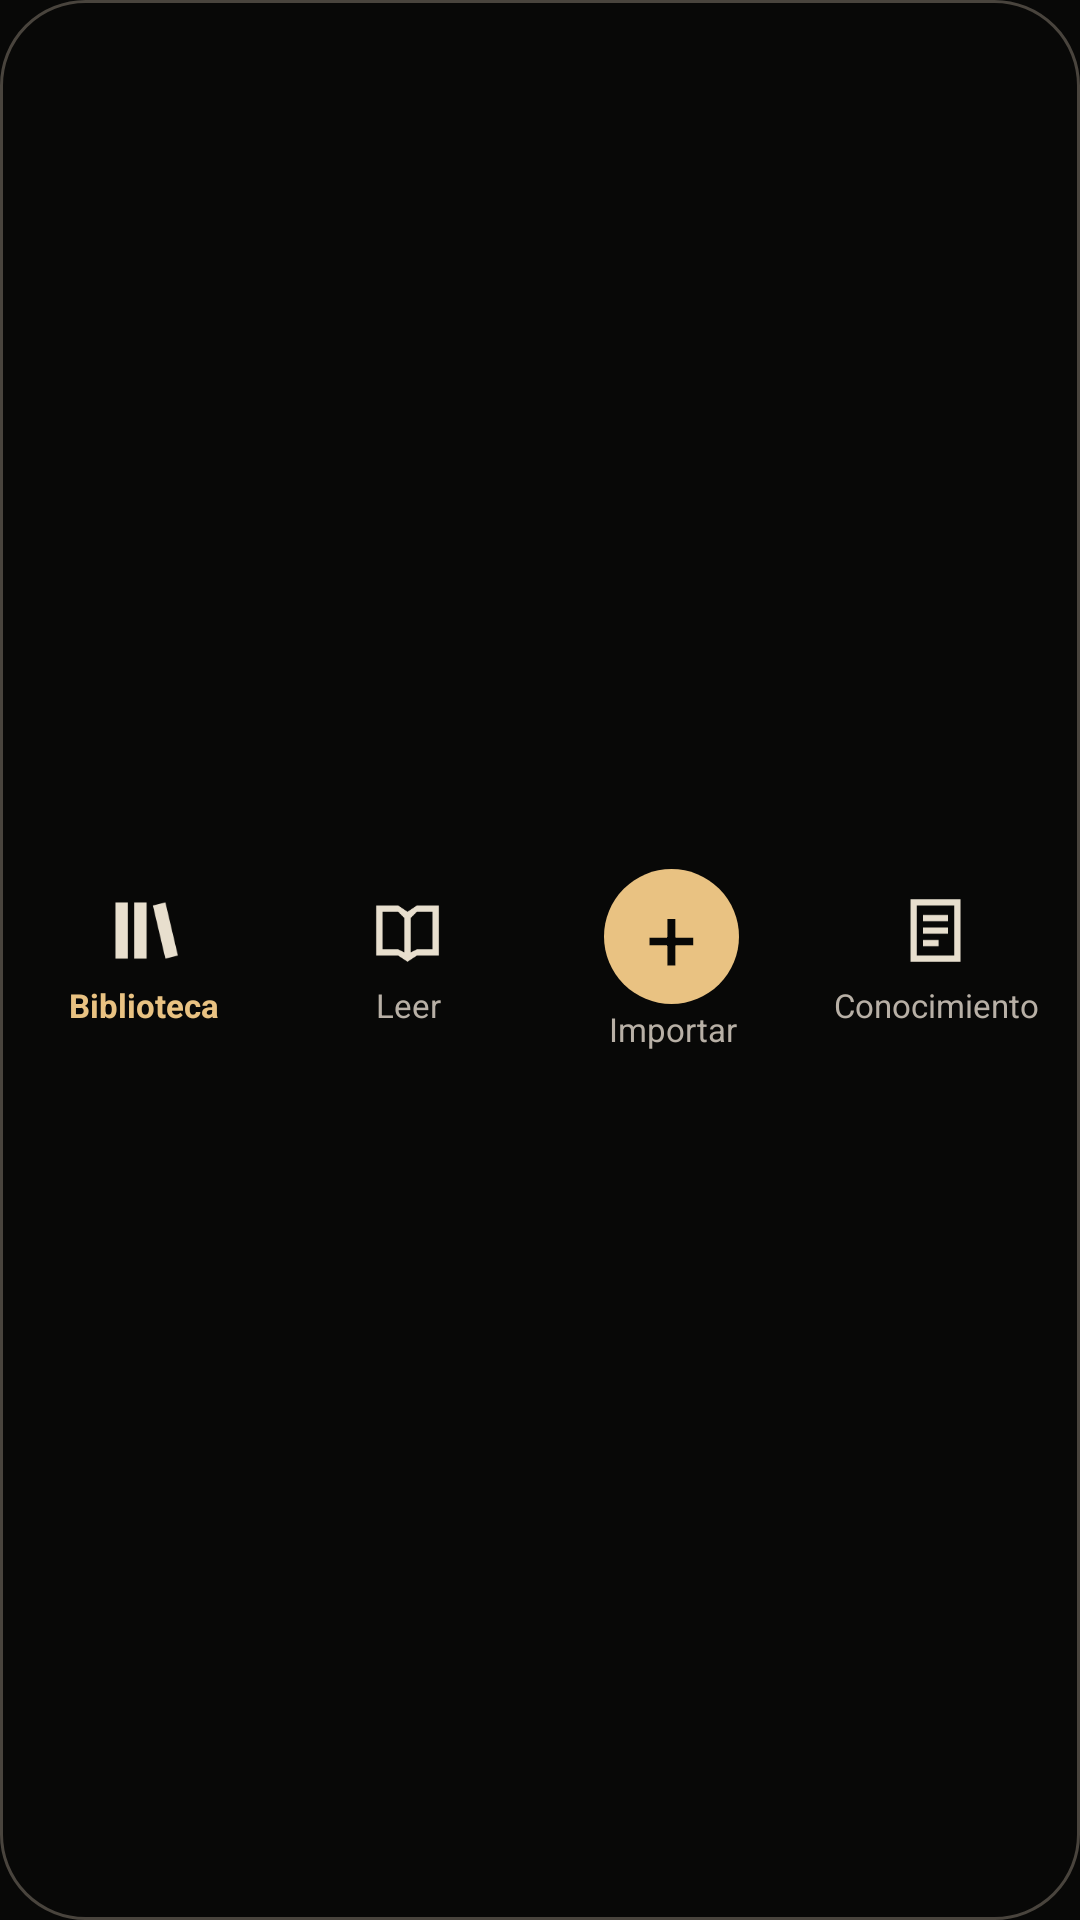

Named icons in this screenshot (1080x1920) and their bounding boxes, (x1, y1, x2, y2):
note: (910, 899, 961, 962)
